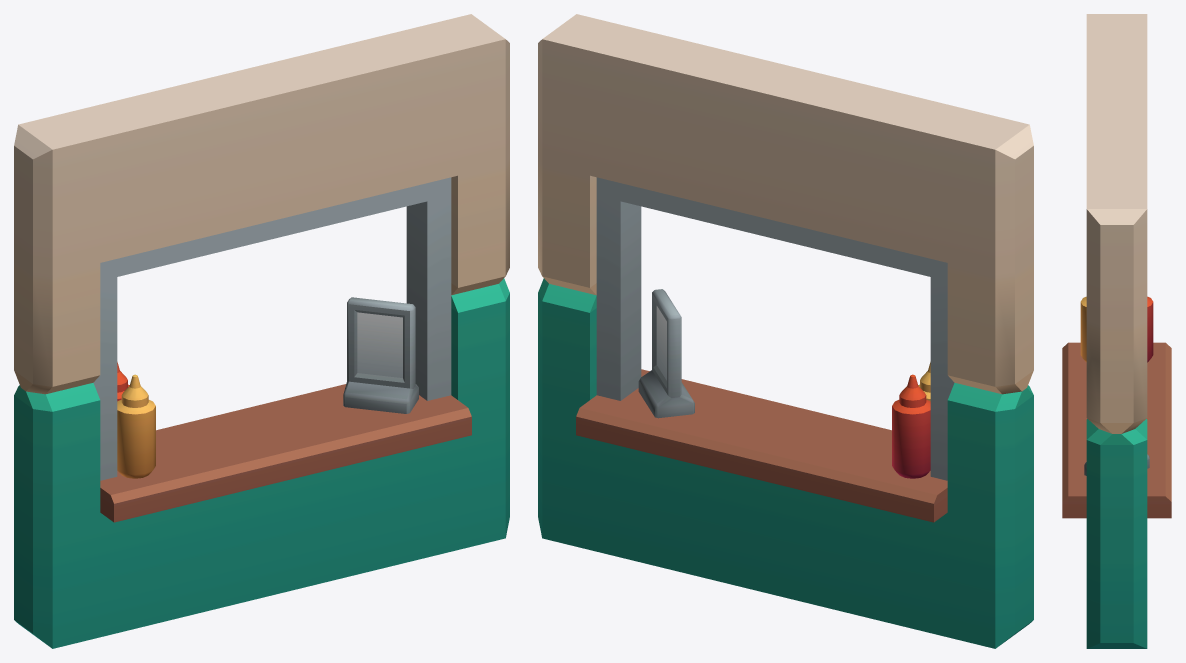
File: order_window.glb
The picture shows the model from 3 angles, left to right: view 1: azimuth 30°, elevation 25°; view 2: azimuth 150°, elevation 25°; view 3: azimuth 270°, elevation 25°; orthographic projection. The views are drawn at different scales.
Visible parts, largest first — view 1: wall_orderwindow_decorated; view 2: wall_orderwindow_decorated; view 3: wall_orderwindow_decorated.
Part boxes in pixels (left/top/right/bottom): wall_orderwindow_decorated: left=14, top=14, right=509, bottom=648; wall_orderwindow_decorated: left=538, top=14, right=1033, bottom=648; wall_orderwindow_decorated: left=1062, top=14, right=1171, bottom=648.
Bounding box in the file's own units: 4 × 4 × 0.9.
Materials: 1 (1 with a texture image).
